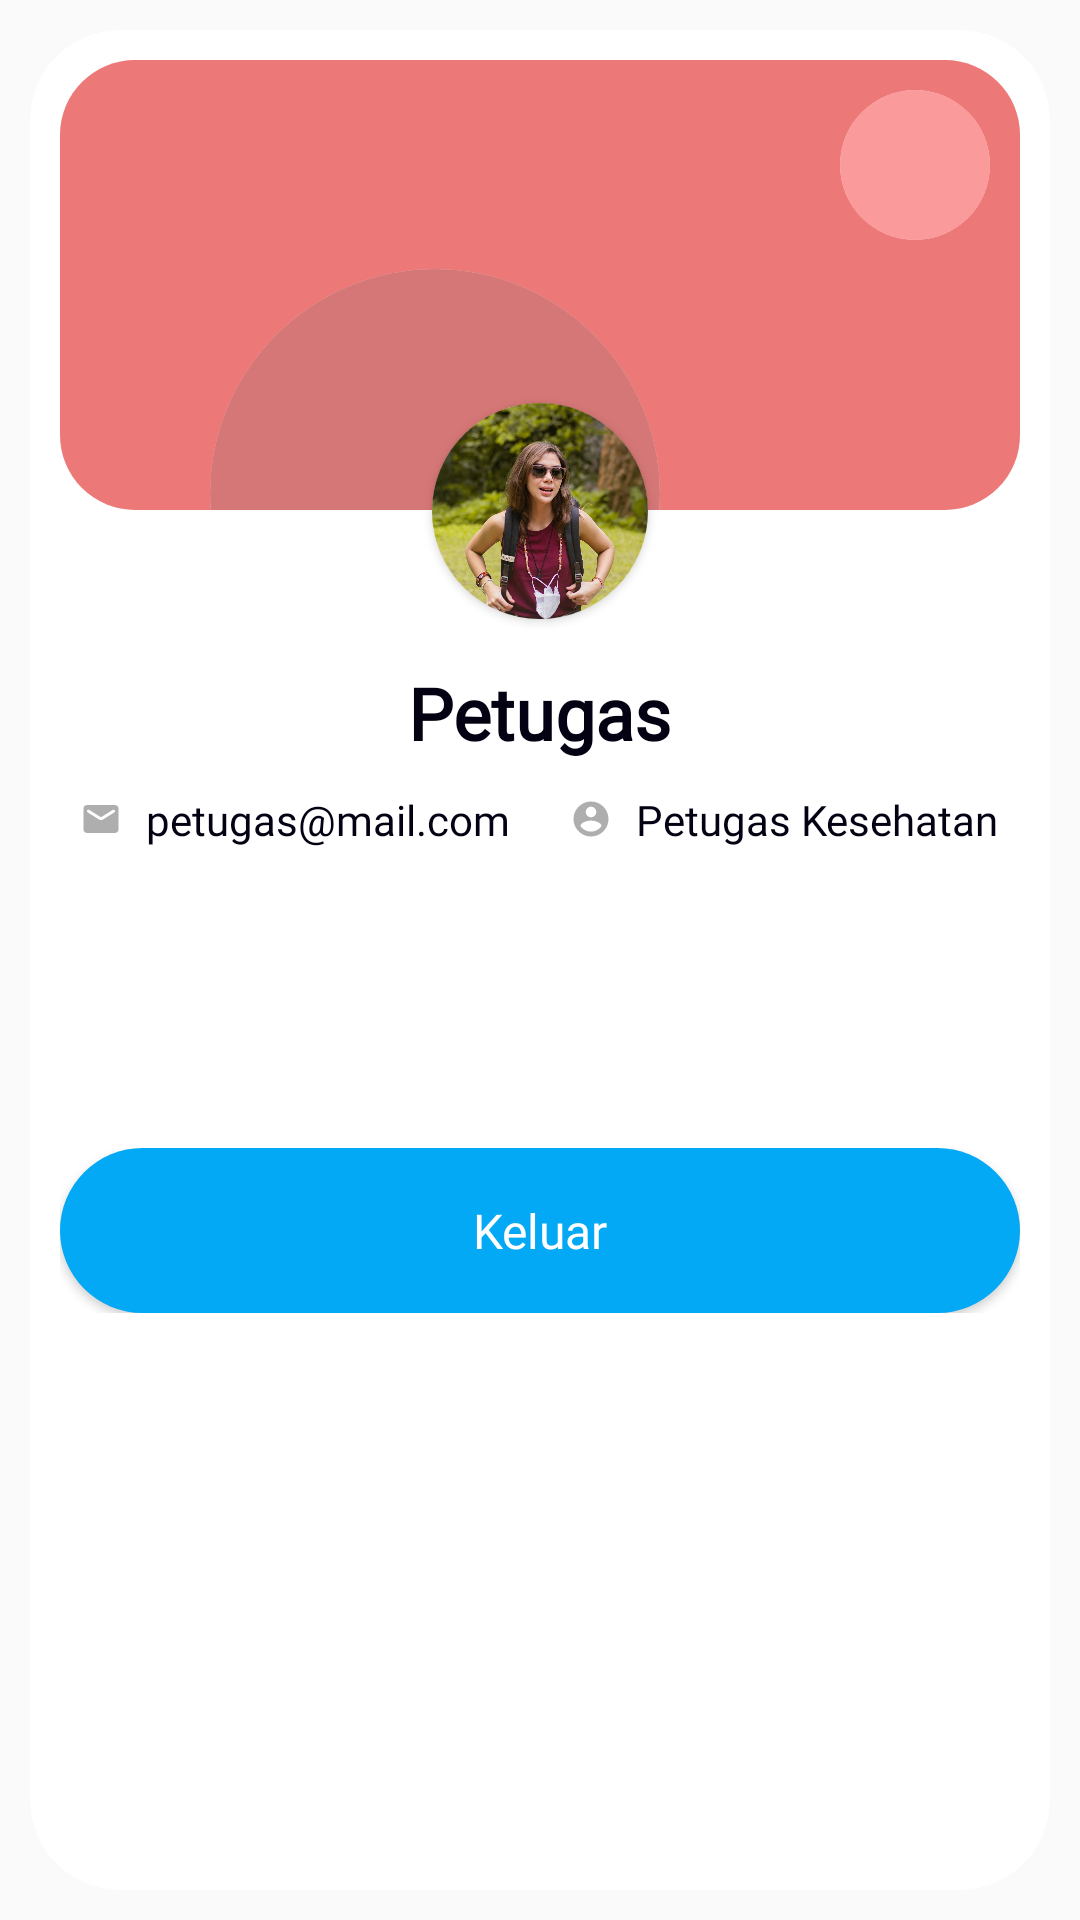

Icon bounding boxes for this 1080 × 1920 phone screenshot, format (x1, y1, x2, y2):
account circle: (573, 801, 609, 837)
